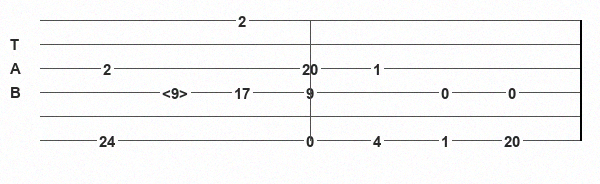0: (306, 133, 318, 148), (441, 85, 453, 100), (508, 85, 520, 100)
1: (373, 61, 385, 76), (441, 133, 453, 148)
17: (234, 85, 254, 100)
2: (103, 61, 115, 76), (238, 13, 250, 28)
20: (302, 61, 322, 76), (504, 133, 524, 148)
24: (99, 133, 119, 148)
4: (373, 133, 385, 148)
9: (306, 85, 318, 100)
harmonic: (162, 85, 192, 100)
